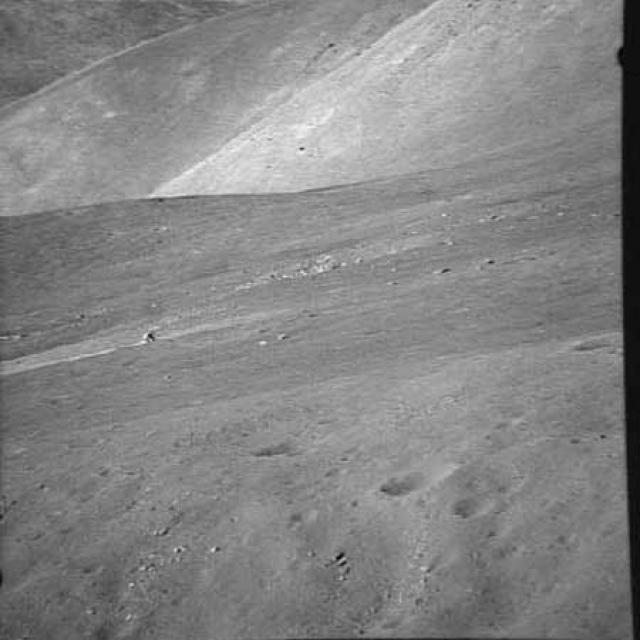crater: (245, 233, 453, 279), (365, 450, 463, 498), (574, 338, 640, 370), (445, 489, 503, 525), (254, 432, 324, 460)
